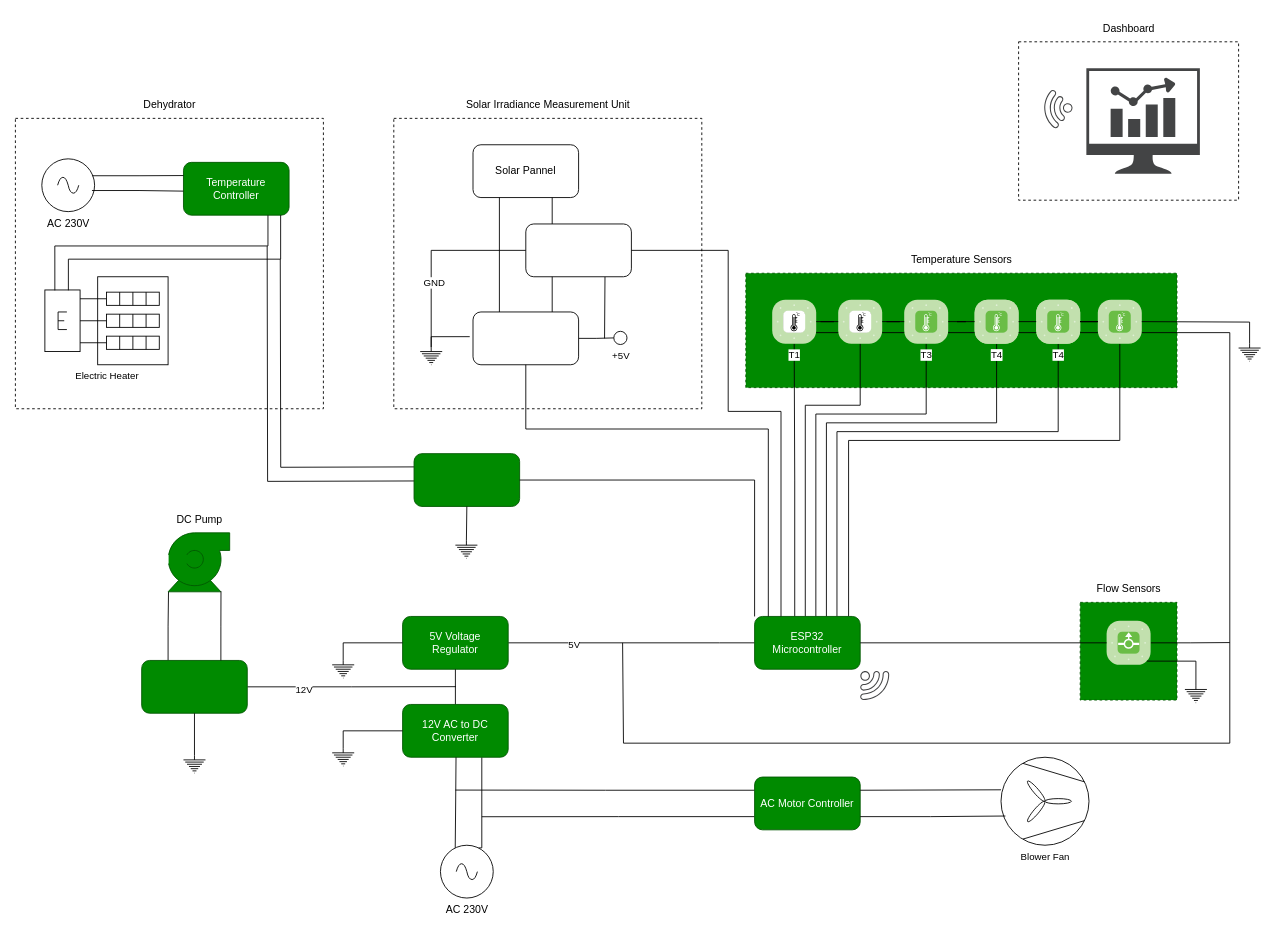
Some shapes in this 1276 by 931 pixel diagram are drawn without their labels. Each missing label, with the centre of its shape:
"3V AC to DC Converter" belongs at point (466, 479).
"DC Current Sensor" belongs at point (578, 250).
"DC Motor Controller" belongs at point (194, 686).
"DC Voltage Sensor" belongs at point (525, 338).
"FM2" belongs at point (1128, 642).
"T2" belongs at point (859, 321).
"T5" belongs at point (1057, 321).
"T6" belongs at point (1119, 321).
